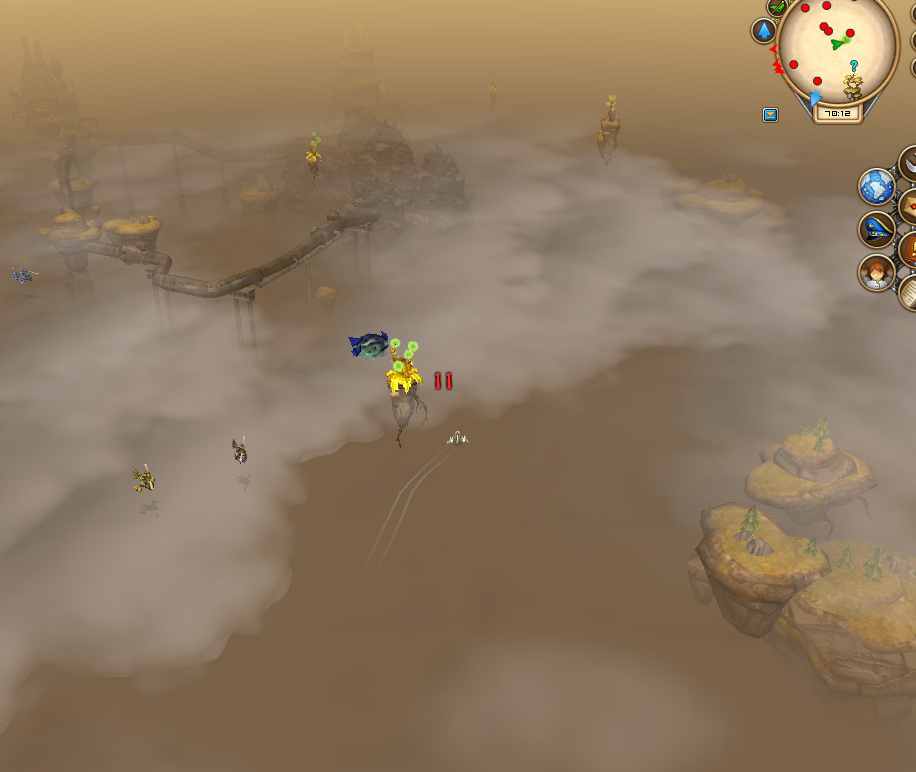dandelion-full: (383, 330, 431, 438), (591, 91, 628, 162), (303, 126, 325, 177), (484, 71, 502, 112)
